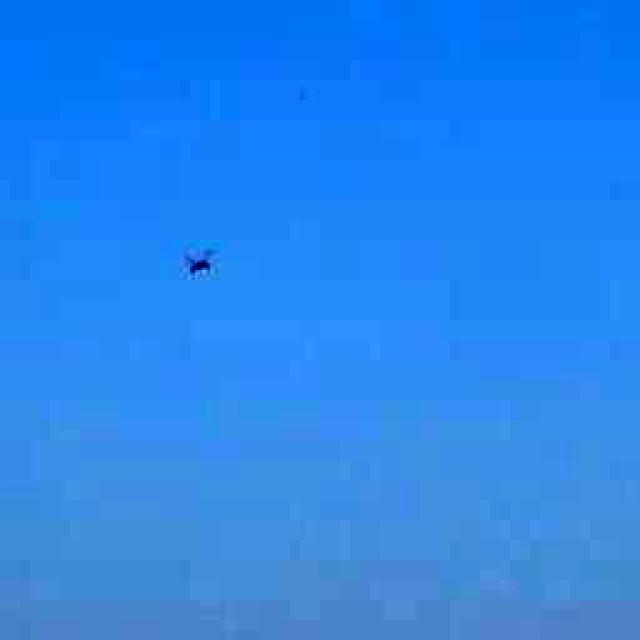bird: (170, 232, 228, 292)
